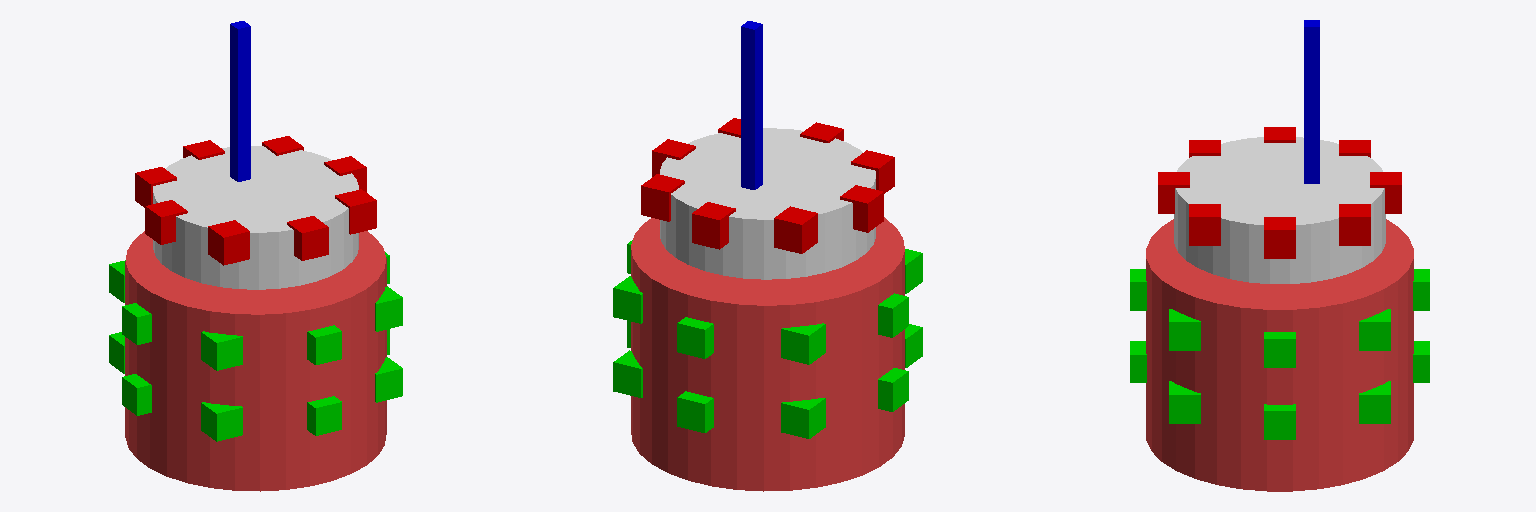
The robot description file, URDF, robot "random_bottle":
<?xml version="1.0"?>
<robot name="random_bottle">

  <!-- Define the cap link -->
  <link name="link1">
    <visual>
      <geometry>
        <mesh filename="cap.obj" scale="1.0 1.0 1.0"/>
      </geometry>
       <material name="white">
        <color rgba=".9 .9 .9 1"/>
      </material>

    </visual>
    <collision>
      <geometry>
        <mesh filename="cap.obj" scale="1.0 1.0 1.0"/>
      </geometry>
    </collision>

    <inertial>
      <mass value="0.017741953020663167"/> <!-- You can adjust the mass as needed -->
      <origin rpy="0 0 0" xyz="0 0 0"/>
      <inertia ixx="5.605001790393654e-06" ixy="0.0" ixz="0.0" iyy="5.605001790393654e-06" iyz="0.0" izz="9.980542817066575e-06"/>
    </inertial>
  </link>

    <link name="l10">
    <visual>
      <geometry>
        <box size="0.01 0.01 0.01"/>
      </geometry>

      <material name="red">
        <color rgba="0.9 0.0 0.0 1"/>
      </material>

    </visual>

    <inertial>
      <mass value="0.0001"/> <!-- You can adjust the mass as needed -->
      <origin rpy="0 0 0" xyz="0 0 -0.00"/> <!-- Offset by half of link1's height + 0.03m for the margin -->
      <inertia ixx="0.000000003" ixy="0.0" ixz="0.0" iyy="0.0000003" iyz="0.0" izz="0.00000003"/>
    </inertial>

  </link>
  <link name="l11">
    <visual>
      <geometry>
        <box size="0.01 0.01 0.01"/>
      </geometry>

      <material name="red">
        <color rgba="0.9 0.0 0.0 1"/>
      </material>

    </visual>

    <inertial>
      <mass value="0.0001"/> <!-- You can adjust the mass as needed -->
      <origin rpy="0 0 0" xyz="0 0 -0.00"/> <!-- Offset by half of link1's height + 0.03m for the margin -->
      <inertia ixx="0.000000003" ixy="0.0" ixz="0.0" iyy="0.0000003" iyz="0.0" izz="0.00000003"/>
    </inertial>

  </link>
  <link name="l12">
    <visual>
      <geometry>
        <box size="0.01 0.01 0.01"/>
      </geometry>

      <material name="red">
        <color rgba="0.9 0.0 0.0 1"/>
      </material>

    </visual>

    <inertial>
      <mass value="0.0001"/> <!-- You can adjust the mass as needed -->
      <origin rpy="0 0 0" xyz="0 0 -0.00"/> <!-- Offset by half of link1's height + 0.03m for the margin -->
      <inertia ixx="0.000000003" ixy="0.0" ixz="0.0" iyy="0.0000003" iyz="0.0" izz="0.00000003"/>
    </inertial>

  </link>
  <link name="l13">
    <visual>
      <geometry>
        <box size="0.01 0.01 0.01"/>
      </geometry>

      <material name="red">
        <color rgba="0.9 0.0 0.0 1"/>
      </material>

    </visual>

    <inertial>
      <mass value="0.0001"/> <!-- You can adjust the mass as needed -->
      <origin rpy="0 0 0" xyz="0 0 -0.00"/> <!-- Offset by half of link1's height + 0.03m for the margin -->
      <inertia ixx="0.000000003" ixy="0.0" ixz="0.0" iyy="0.0000003" iyz="0.0" izz="0.00000003"/>
    </inertial>

  </link>
  <link name="l10b">
    <visual>
      <geometry>
        <box size="0.01 0.01 0.01"/>
      </geometry>

      <material name="red">
        <color rgba="0.9 0.0 0.0 1"/>
      </material>

    </visual>

    <inertial>
      <mass value="0.0001"/> <!-- You can adjust the mass as needed -->
      <origin rpy="0 0 0" xyz="0 0 -0.00"/> <!-- Offset by half of link1's height + 0.03m for the margin -->
      <inertia ixx="0.000000003" ixy="0.0" ixz="0.0" iyy="0.0000003" iyz="0.0" izz="0.00000003"/>
    </inertial>

  </link>
  <link name="l11b">
    <visual>
      <geometry>
        <box size="0.01 0.01 0.01"/>
      </geometry>

      <material name="red">
        <color rgba="0.9 0.0 0.0 1"/>
      </material>

    </visual>

    <inertial>
      <mass value="0.0001"/> <!-- You can adjust the mass as needed -->
      <origin rpy="0 0 0" xyz="0 0 -0.00"/> <!-- Offset by half of link1's height + 0.03m for the margin -->
      <inertia ixx="0.000000003" ixy="0.0" ixz="0.0" iyy="0.0000003" iyz="0.0" izz="0.00000003"/>
    </inertial>

  </link>
  <link name="l12b">
    <visual>
      <geometry>
        <box size="0.01 0.01 0.01"/>
      </geometry>

      <material name="red">
        <color rgba="0.9 0.0 0.0 1"/>
      </material>

    </visual>

    <inertial>
      <mass value="0.0001"/> <!-- You can adjust the mass as needed -->
      <origin rpy="0 0 0" xyz="0 0 -0.00"/> <!-- Offset by half of link1's height + 0.03m for the margin -->
      <inertia ixx="0.000000003" ixy="0.0" ixz="0.0" iyy="0.0000003" iyz="0.0" izz="0.00000003"/>
    </inertial>

  </link>
  <link name="l13b">
    <visual>
      <geometry>
        <box size="0.01 0.01 0.01"/>
      </geometry>

      <material name="red">
        <color rgba="0.9 0.0 0.0 1"/>
      </material>

    </visual>

    <inertial>
      <mass value="0.0001"/> <!-- You can adjust the mass as needed -->
      <origin rpy="0 0 0" xyz="0 0 -0.00"/> <!-- Offset by half of link1's height + 0.03m for the margin -->
      <inertia ixx="0.000000003" ixy="0.0" ixz="0.0" iyy="0.0000003" iyz="0.0" izz="0.00000003"/>
    </inertial>

  </link>
  <link name="l20">
    <visual>
      <geometry>
        <box size="0.01 0.01 0.01"/>
      </geometry>

      <material name="red">
        <color rgba="0.0 0.9 0.0 1"/>
      </material>

    </visual>

    <inertial>
      <mass value="0.0001"/> <!-- You can adjust the mass as needed -->
      <origin rpy="0 0 0" xyz="0 0 -0.00"/> <!-- Offset by half of link1's height + 0.03m for the margin -->
      <inertia ixx="0.000000003" ixy="0.0" ixz="0.0" iyy="0.0000003" iyz="0.0" izz="0.00000003"/>
    </inertial>

  </link>
  <link name="l21">
    <visual>
      <geometry>
        <box size="0.01 0.01 0.01"/>
      </geometry>

      <material name="red">
        <color rgba="0.0 0.9 0.0 1"/>
      </material>

    </visual>

    <inertial>
      <mass value="0.0001"/> <!-- You can adjust the mass as needed -->
      <origin rpy="0 0 0" xyz="0 0 -0.00"/> <!-- Offset by half of link1's height + 0.03m for the margin -->
      <inertia ixx="0.000000003" ixy="0.0" ixz="0.0" iyy="0.0000003" iyz="0.0" izz="0.00000003"/>
    </inertial>

  </link>
  <link name="l22">
    <visual>
      <geometry>
        <box size="0.01 0.01 0.01"/>
      </geometry>

      <material name="red">
        <color rgba="0.0 0.9 0.0 1"/>
      </material>

    </visual>

    <inertial>
      <mass value="0.0001"/> <!-- You can adjust the mass as needed -->
      <origin rpy="0 0 0" xyz="0 0 -0.00"/> <!-- Offset by half of link1's height + 0.03m for the margin -->
      <inertia ixx="0.000000003" ixy="0.0" ixz="0.0" iyy="0.0000003" iyz="0.0" izz="0.00000003"/>
    </inertial>

  </link>
  <link name="l23">
    <visual>
      <geometry>
        <box size="0.01 0.01 0.01"/>
      </geometry>

      <material name="red">
        <color rgba="0.0 0.9 0.0 1"/>
      </material>

    </visual>

    <inertial>
      <mass value="0.0001"/> <!-- You can adjust the mass as needed -->
      <origin rpy="0 0 0" xyz="0 0 -0.00"/> <!-- Offset by half of link1's height + 0.03m for the margin -->
      <inertia ixx="0.000000003" ixy="0.0" ixz="0.0" iyy="0.0000003" iyz="0.0" izz="0.00000003"/>
    </inertial>

  </link>
  <link name="l24">
    <visual>
      <geometry>
        <box size="0.01 0.01 0.01"/>
      </geometry>

      <material name="red">
        <color rgba="0.0 0.9 0.0 1"/>
      </material>

    </visual>

    <inertial>
      <mass value="0.0001"/> <!-- You can adjust the mass as needed -->
      <origin rpy="0 0 0" xyz="0 0 -0.00"/> <!-- Offset by half of link1's height + 0.03m for the margin -->
      <inertia ixx="0.000000003" ixy="0.0" ixz="0.0" iyy="0.0000003" iyz="0.0" izz="0.00000003"/>
    </inertial>

  </link>
  <link name="l25">
    <visual>
      <geometry>
        <box size="0.01 0.01 0.01"/>
      </geometry>

      <material name="red">
        <color rgba="0.0 0.9 0.0 1"/>
      </material>

    </visual>

    <inertial>
      <mass value="0.0001"/> <!-- You can adjust the mass as needed -->
      <origin rpy="0 0 0" xyz="0 0 -0.00"/> <!-- Offset by half of link1's height + 0.03m for the margin -->
      <inertia ixx="0.000000003" ixy="0.0" ixz="0.0" iyy="0.0000003" iyz="0.0" izz="0.00000003"/>
    </inertial>

  </link>
  <link name="l26">
    <visual>
      <geometry>
        <box size="0.01 0.01 0.01"/>
      </geometry>

      <material name="red">
        <color rgba="0.0 0.9 0.0 1"/>
      </material>

    </visual>

    <inertial>
      <mass value="0.0001"/> <!-- You can adjust the mass as needed -->
      <origin rpy="0 0 0" xyz="0 0 -0.00"/> <!-- Offset by half of link1's height + 0.03m for the margin -->
      <inertia ixx="0.000000003" ixy="0.0" ixz="0.0" iyy="0.0000003" iyz="0.0" izz="0.00000003"/>
    </inertial>

  </link>
  <link name="l27">
    <visual>
      <geometry>
        <box size="0.01 0.01 0.01"/>
      </geometry>

      <material name="red">
        <color rgba="0.0 0.9 0.0 1"/>
      </material>

    </visual>

    <inertial>
      <mass value="0.0001"/> <!-- You can adjust the mass as needed -->
      <origin rpy="0 0 0" xyz="0 0 -0.00"/> <!-- Offset by half of link1's height + 0.03m for the margin -->
      <inertia ixx="0.000000003" ixy="0.0" ixz="0.0" iyy="0.0000003" iyz="0.0" izz="0.00000003"/>
    </inertial>

  </link>
  <link name="l30">
    <visual>
      <geometry>
        <box size="0.01 0.01 0.01"/>
      </geometry>

      <material name="red">
        <color rgba="0.0 0.9 0.0 1"/>
      </material>

    </visual>

    <inertial>
      <mass value="0.0001"/> <!-- You can adjust the mass as needed -->
      <origin rpy="0 0 0" xyz="0 0 -0.00"/> <!-- Offset by half of link1's height + 0.03m for the margin -->
      <inertia ixx="0.000000003" ixy="0.0" ixz="0.0" iyy="0.0000003" iyz="0.0" izz="0.00000003"/>
    </inertial>

  </link>
  <link name="l31">
    <visual>
      <geometry>
        <box size="0.01 0.01 0.01"/>
      </geometry>

      <material name="red">
        <color rgba="0.0 0.9 0.0 1"/>
      </material>

    </visual>

    <inertial>
      <mass value="0.0001"/> <!-- You can adjust the mass as needed -->
      <origin rpy="0 0 0" xyz="0 0 -0.00"/> <!-- Offset by half of link1's height + 0.03m for the margin -->
      <inertia ixx="0.000000003" ixy="0.0" ixz="0.0" iyy="0.0000003" iyz="0.0" izz="0.00000003"/>
    </inertial>

  </link>
  <link name="l32">
    <visual>
      <geometry>
        <box size="0.01 0.01 0.01"/>
      </geometry>

      <material name="red">
        <color rgba="0.0 0.9 0.0 1"/>
      </material>

    </visual>

    <inertial>
      <mass value="0.0001"/> <!-- You can adjust the mass as needed -->
      <origin rpy="0 0 0" xyz="0 0 -0.00"/> <!-- Offset by half of link1's height + 0.03m for the margin -->
      <inertia ixx="0.000000003" ixy="0.0" ixz="0.0" iyy="0.0000003" iyz="0.0" izz="0.00000003"/>
    </inertial>

  </link>
  <link name="l33">
    <visual>
      <geometry>
        <box size="0.01 0.01 0.01"/>
      </geometry>

      <material name="red">
        <color rgba="0.0 0.9 0.0 1"/>
      </material>

    </visual>

    <inertial>
      <mass value="0.0001"/> <!-- You can adjust the mass as needed -->
      <origin rpy="0 0 0" xyz="0 0 -0.00"/> <!-- Offset by half of link1's height + 0.03m for the margin -->
      <inertia ixx="0.000000003" ixy="0.0" ixz="0.0" iyy="0.0000003" iyz="0.0" izz="0.00000003"/>
    </inertial>

  </link>
  <link name="l34">
    <visual>
      <geometry>
        <box size="0.01 0.01 0.01"/>
      </geometry>

      <material name="red">
        <color rgba="0.0 0.9 0.0 1"/>
      </material>

    </visual>

    <inertial>
      <mass value="0.0001"/> <!-- You can adjust the mass as needed -->
      <origin rpy="0 0 0" xyz="0 0 -0.00"/> <!-- Offset by half of link1's height + 0.03m for the margin -->
      <inertia ixx="0.000000003" ixy="0.0" ixz="0.0" iyy="0.0000003" iyz="0.0" izz="0.00000003"/>
    </inertial>

  </link>
  <link name="l35">
    <visual>
      <geometry>
        <box size="0.01 0.01 0.01"/>
      </geometry>

      <material name="red">
        <color rgba="0.0 0.9 0.0 1"/>
      </material>

    </visual>

    <inertial>
      <mass value="0.0001"/> <!-- You can adjust the mass as needed -->
      <origin rpy="0 0 0" xyz="0 0 -0.00"/> <!-- Offset by half of link1's height + 0.03m for the margin -->
      <inertia ixx="0.000000003" ixy="0.0" ixz="0.0" iyy="0.0000003" iyz="0.0" izz="0.00000003"/>
    </inertial>

  </link>
  <link name="l36">
    <visual>
      <geometry>
        <box size="0.01 0.01 0.01"/>
      </geometry>

      <material name="red">
        <color rgba="0.0 0.9 0.0 1"/>
      </material>

    </visual>

    <inertial>
      <mass value="0.0001"/> <!-- You can adjust the mass as needed -->
      <origin rpy="0 0 0" xyz="0 0 -0.00"/> <!-- Offset by half of link1's height + 0.03m for the margin -->
      <inertia ixx="0.000000003" ixy="0.0" ixz="0.0" iyy="0.0000003" iyz="0.0" izz="0.00000003"/>
    </inertial>

  </link>
  <link name="l37">
    <visual>
      <geometry>
        <box size="0.01 0.01 0.01"/>
      </geometry>

      <material name="red">
        <color rgba="0.0 0.9 0.0 1"/>
      </material>

    </visual>

    <inertial>
      <mass value="0.0001"/> <!-- You can adjust the mass as needed -->
      <origin rpy="0 0 0" xyz="0 0 -0.00"/> <!-- Offset by half of link1's height + 0.03m for the margin -->
      <inertia ixx="0.000000003" ixy="0.0" ixz="0.0" iyy="0.0000003" iyz="0.0" izz="0.00000003"/>
    </inertial>

  </link>


  <link name="hint">
    <visual>
      <geometry>
        <box size="0.005 0.005 0.07"/> <!-- 9cm x 9cm x 6cm -->
      </geometry>
       <material name="blue">
        <color rgba=".0 .0 .9 1"/>
      </material>
    </visual>

    <inertial>
      <mass value="0.0001"/> <!-- You can adjust the mass as needed -->
      <origin rpy="0 0 0" xyz="0 0 -0.00"/> <!-- Offset by half of link1's height + 0.03m for the margin -->
      <inertia ixx="0.000000003" ixy="0.0" ixz="0.0" iyy="0.0000003" iyz="0.0" izz="0.00000003"/>
    </inertial>


  </link>

  <!-- Define the base link -->
  <link name="link2">
    <visual>
      <geometry>
        <mesh filename="base.obj" scale="1.0 1.0 1.0"/>
      </geometry>
      <material name="red">
        <color rgba=".9 .3 .3 1"/>
      </material>

    </visual>

    <collision>
      <geometry>
        <mesh filename="base.obj" scale="1.0 1.0 1.0"/>
      </geometry>
    </collision>

    <inertial>
      <mass value="0.05410629008470679"/> <!-- You can adjust the mass as needed -->
      <origin rpy="0 0 0" xyz="0 0 -0.00"/> <!-- Offset by half of link1's height + 0.03m for the margin -->
      <inertia ixx="4.235762458178239e-05" ixy="0.0" ixz="0.0" iyy="4.235762458178239e-05" iyz="0.0" izz="4.8584481108837144e-05"/>
    </inertial>
  </link>



  <link name="brake">
   <visual>
      <geometry>
        <box size="0.02 0.02 0.005"/> <!-- 6cm x 6cm x 2cm -->
      </geometry>
       <material name="gray">
        <color rgba=".5 .5 .5 1"/>
      </material>

    </visual>
    <collision>
      <geometry>
        <box size="0.02 0.02 0.005"/> <!-- 6cm x 6cm x 2cm -->
      </geometry>
    </collision>

    <inertial>
      <mass value="0.005"/> <!-- You can adjust the mass as needed -->
      <origin rpy="0 0 0" xyz="0 0 0"/>
      <inertia ixx="0.00018" ixy="0.0" ixz="0.0" iyy="0.00018" iyz="0.0" izz="0.00018"/>
    </inertial>
  </link>

  <!-- Define the joint connecting link1 and link2 as a revolute joint along z-axis -->
  <joint name="fix_joint" type="fixed">
    <parent link="link1"/>
    <child link="hint"/>
    <origin rpy="0 0 0" xyz="0 0.01 0.03"/> <!-- Offset by half of link1's height for the margin -->
    <axis xyz="0 0 1"/>
  </joint>

  <!-- Define the joint connecting link1 and link2 as a revolute joint along z-axis -->
  <joint name="brake_joint" type="prismatic">
    <parent link="link2"/>
    <child link="brake"/>
    <origin rpy="0 0 0" xyz="0 0 0.05203973129446699"/> <!-- Offset by half of link1's height for the margin -->
    <axis xyz="0 0 1"/>
    <limit lower="-0.02" upper="0.02" />
    <!-- <dynamics damping="0.0" friction="0.0"/> -->
  </joint>


  <joint name="b_joint" type="revolute">
    <parent link="link2"/>
    <child link="link1"/>
    <origin rpy="0 0 0" xyz="0 0 0.0466490259244967"/> <!-- Offset by half of link1's height for the margin -->
    <axis xyz="0 0 1"/>
    <!-- No joint limits -->
    <dynamics damping="0.0" friction="0.0"/>
  </joint>


  <!-- marker -->
    <joint name="jl10" type="fixed">
    <parent link="link1"/>
    <child link="l10"/>
    <origin rpy="0 0 0" xyz="0.0 0.033542186273948824 0.006117211610991088"/> <!-- Offset by half of link1's height for the margin -->
    <axis xyz="0 0 1"/>
  </joint>
  <joint name="jl11" type="fixed">
    <parent link="link1"/>
    <child link="l11"/>
    <origin rpy="0 0 0" xyz="0.02371790705237211 0.023717907687890984 0.006117211610991088"/> <!-- Offset by half of link1's height for the margin -->
    <axis xyz="0 0 1"/>
  </joint>
  <joint name="jl12" type="fixed">
    <parent link="link1"/>
    <child link="l12"/>
    <origin rpy="0 0 0" xyz="0.03354218627394881 8.987594124462256e-10 0.006117211610991088"/> <!-- Offset by half of link1's height for the margin -->
    <axis xyz="0 0 1"/>
  </joint>
  <joint name="jl13" type="fixed">
    <parent link="link1"/>
    <child link="l13"/>
    <origin rpy="0 0 0" xyz="0.023717908323409836 -0.02371790641685322 0.006117211610991088"/> <!-- Offset by half of link1's height for the margin -->
    <axis xyz="0 0 1"/>
  </joint>
  <joint name="jl10b" type="fixed">
    <parent link="link1"/>
    <child link="l10b"/>
    <origin rpy="0 0 0" xyz="1.7975188248924506e-09 -0.033542186273948775 0.006117211610991088"/> <!-- Offset by half of link1's height for the margin -->
    <axis xyz="0 0 1"/>
  </joint>
  <joint name="jl11b" type="fixed">
    <parent link="link1"/>
    <child link="l11b"/>
    <origin rpy="0 0 0" xyz="-0.023717905781334304 -0.02371790895892869 0.006117211610991088"/> <!-- Offset by half of link1's height for the margin -->
    <axis xyz="0 0 1"/>
  </joint>
  <joint name="jl12b" type="fixed">
    <parent link="link1"/>
    <child link="l12b"/>
    <origin rpy="0 0 0" xyz="-0.03354218627394871 -2.6962782224429514e-09 0.006117211610991088"/> <!-- Offset by half of link1's height for the margin -->
    <axis xyz="0 0 1"/>
  </joint>
  <joint name="jl13b" type="fixed">
    <parent link="link1"/>
    <child link="l13b"/>
    <origin rpy="0 0 0" xyz="-0.0237179095944475 0.02371790514581539 0.006117211610991088"/> <!-- Offset by half of link1's height for the margin -->
    <axis xyz="0 0 1"/>
  </joint>
  <joint name="jl20" type="fixed">
    <parent link="link2"/>
    <child link="l20"/>
    <origin rpy="0 0 0" xyz="0.0 0.042377946064795 0.01898941555469802"/> <!-- Offset by half of link1's height for the margin -->
    <axis xyz="0 0 1"/>
  </joint>
  <joint name="jl21" type="fixed">
    <parent link="link2"/>
    <child link="l21"/>
    <origin rpy="0 0 0" xyz="0.029965732633709954 0.029965733436638668 0.01898941555469802"/> <!-- Offset by half of link1's height for the margin -->
    <axis xyz="0 0 1"/>
  </joint>
  <joint name="jl22" type="fixed">
    <parent link="link2"/>
    <child link="l22"/>
    <origin rpy="0 0 0" xyz="0.04237794606479499 1.135512682292103e-09 0.01898941555469802"/> <!-- Offset by half of link1's height for the margin -->
    <axis xyz="0 0 1"/>
  </joint>
  <joint name="jl23" type="fixed">
    <parent link="link2"/>
    <child link="l23"/>
    <origin rpy="0 0 0" xyz="0.029965734239567356 -0.029965731830781217 0.01898941555469802"/> <!-- Offset by half of link1's height for the margin -->
    <axis xyz="0 0 1"/>
  </joint>
  <joint name="jl24" type="fixed">
    <parent link="link2"/>
    <child link="l24"/>
    <origin rpy="0 0 0" xyz="2.2710253645842054e-09 -0.04237794606479494 0.01898941555469802"/> <!-- Offset by half of link1's height for the margin -->
    <axis xyz="0 0 1"/>
  </joint>
  <joint name="jl25" type="fixed">
    <parent link="link2"/>
    <child link="l25"/>
    <origin rpy="0 0 0" xyz="-0.029965731027852445 -0.029965735042496045 0.01898941555469802"/> <!-- Offset by half of link1's height for the margin -->
    <axis xyz="0 0 1"/>
  </joint>
  <joint name="jl26" type="fixed">
    <parent link="link2"/>
    <child link="l26"/>
    <origin rpy="0 0 0" xyz="-0.042377946064794864 -3.406538028056718e-09 0.01898941555469802"/> <!-- Offset by half of link1's height for the margin -->
    <axis xyz="0 0 1"/>
  </joint>
  <joint name="jl27" type="fixed">
    <parent link="link2"/>
    <child link="l27"/>
    <origin rpy="0 0 0" xyz="-0.029965735845424685 0.029965730224923676 0.01898941555469802"/> <!-- Offset by half of link1's height for the margin -->
    <axis xyz="0 0 1"/>
  </joint>
  <joint name="jl30" type="fixed">
    <parent link="link2"/>
    <child link="l30"/>
    <origin rpy="0 0 0" xyz="0.0 0.042377946064795 -0.00632980518489934"/> <!-- Offset by half of link1's height for the margin -->
    <axis xyz="0 0 1"/>
  </joint>
  <joint name="jl31" type="fixed">
    <parent link="link2"/>
    <child link="l31"/>
    <origin rpy="0 0 0" xyz="0.029965732633709954 0.029965733436638668 -0.00632980518489934"/> <!-- Offset by half of link1's height for the margin -->
    <axis xyz="0 0 1"/>
  </joint>
  <joint name="jl32" type="fixed">
    <parent link="link2"/>
    <child link="l32"/>
    <origin rpy="0 0 0" xyz="0.04237794606479499 1.135512682292103e-09 -0.00632980518489934"/> <!-- Offset by half of link1's height for the margin -->
    <axis xyz="0 0 1"/>
  </joint>
  <joint name="jl33" type="fixed">
    <parent link="link2"/>
    <child link="l33"/>
    <origin rpy="0 0 0" xyz="0.029965734239567356 -0.029965731830781217 -0.00632980518489934"/> <!-- Offset by half of link1's height for the margin -->
    <axis xyz="0 0 1"/>
  </joint>
  <joint name="jl34" type="fixed">
    <parent link="link2"/>
    <child link="l34"/>
    <origin rpy="0 0 0" xyz="2.2710253645842054e-09 -0.04237794606479494 -0.00632980518489934"/> <!-- Offset by half of link1's height for the margin -->
    <axis xyz="0 0 1"/>
  </joint>
  <joint name="jl35" type="fixed">
    <parent link="link2"/>
    <child link="l35"/>
    <origin rpy="0 0 0" xyz="-0.029965731027852445 -0.029965735042496045 -0.00632980518489934"/> <!-- Offset by half of link1's height for the margin -->
    <axis xyz="0 0 1"/>
  </joint>
  <joint name="jl36" type="fixed">
    <parent link="link2"/>
    <child link="l36"/>
    <origin rpy="0 0 0" xyz="-0.042377946064794864 -3.406538028056718e-09 -0.00632980518489934"/> <!-- Offset by half of link1's height for the margin -->
    <axis xyz="0 0 1"/>
  </joint>
  <joint name="jl37" type="fixed">
    <parent link="link2"/>
    <child link="l37"/>
    <origin rpy="0 0 0" xyz="-0.029965735845424685 0.029965730224923676 -0.00632980518489934"/> <!-- Offset by half of link1's height for the margin -->
    <axis xyz="0 0 1"/>
  </joint>



</robot>

--- What the picture shows (computed from the rendered views, not written in the file) ---
Views: 3 orthographic renders of the robot side by side, from view 1: azimuth 30°, elevation 25°; view 2: azimuth 150°, elevation 25°; view 3: azimuth 270°, elevation 25°.
Model random_bottle with 28 links and 27 joints (1 revolute, 1 prismatic, 25 fixed), rooted at link2, posed all joints at 0.
Links seen in each view (by area): view 1: link2, link1, hint, l11b, l10b, l35, l25, l12b, l13, l24, l34, l26 (+8 smaller); view 2: link2, link1, hint, l13b, l37, l27, l10, l12b, l11, l20, l30, l26 (+8 smaller); view 3: link2, link1, hint, l11, l12, l13, l31, l33, l21, l23, l22, l32 (+6 smaller).
Link boxes in pixels (left/top/right/bottom): link2: left=125, top=231, right=386, bottom=491; link1: left=153, top=146, right=358, bottom=289; hint: left=230, top=21, right=250, bottom=181; l11b: left=208, top=220, right=249, bottom=265; l10b: left=287, top=216, right=328, bottom=260; l35: left=201, top=402, right=242, bottom=441; l25: left=201, top=331, right=242, bottom=370; l12b: left=145, top=200, right=187, bottom=244; l13: left=335, top=189, right=376, bottom=234; l24: left=307, top=325, right=341, bottom=364; l34: left=307, top=396, right=341, bottom=435; l26: left=122, top=303, right=151, bottom=344; link2: left=631, top=217, right=904, bottom=491; link1: left=660, top=128, right=875, bottom=279; hint: left=741, top=21, right=762, bottom=189; l13b: left=774, top=206, right=817, bottom=253; l37: left=781, top=398, right=825, bottom=438; l27: left=781, top=323, right=825, bottom=364; l10: left=692, top=202, right=735, bottom=249; l12b: left=840, top=185, right=883, bottom=232; l11: left=641, top=174, right=684, bottom=221; l20: left=677, top=317, right=713, bottom=358; l30: left=677, top=391, right=713, bottom=432; l26: left=878, top=293, right=908, bottom=337; link2: left=1146, top=219, right=1413, bottom=491; link1: left=1174, top=137, right=1385, bottom=283; hint: left=1304, top=20, right=1319, bottom=183; l11: left=1339, top=204, right=1370, bottom=245; l12: left=1264, top=217, right=1295, bottom=258; l13: left=1189, top=204, right=1220, bottom=245; l31: left=1359, top=381, right=1390, bottom=423; l33: left=1169, top=381, right=1200, bottom=423; l21: left=1359, top=309, right=1390, bottom=350; l23: left=1169, top=309, right=1200, bottom=350; l22: left=1264, top=332, right=1295, bottom=367; l32: left=1264, top=404, right=1295, bottom=439.
Size in the robot's own frame: 0.0948 by 0.0948 by 0.1433 metres.
2 mesh visuals loaded from 2 distinct referenced files (2 OBJ).
